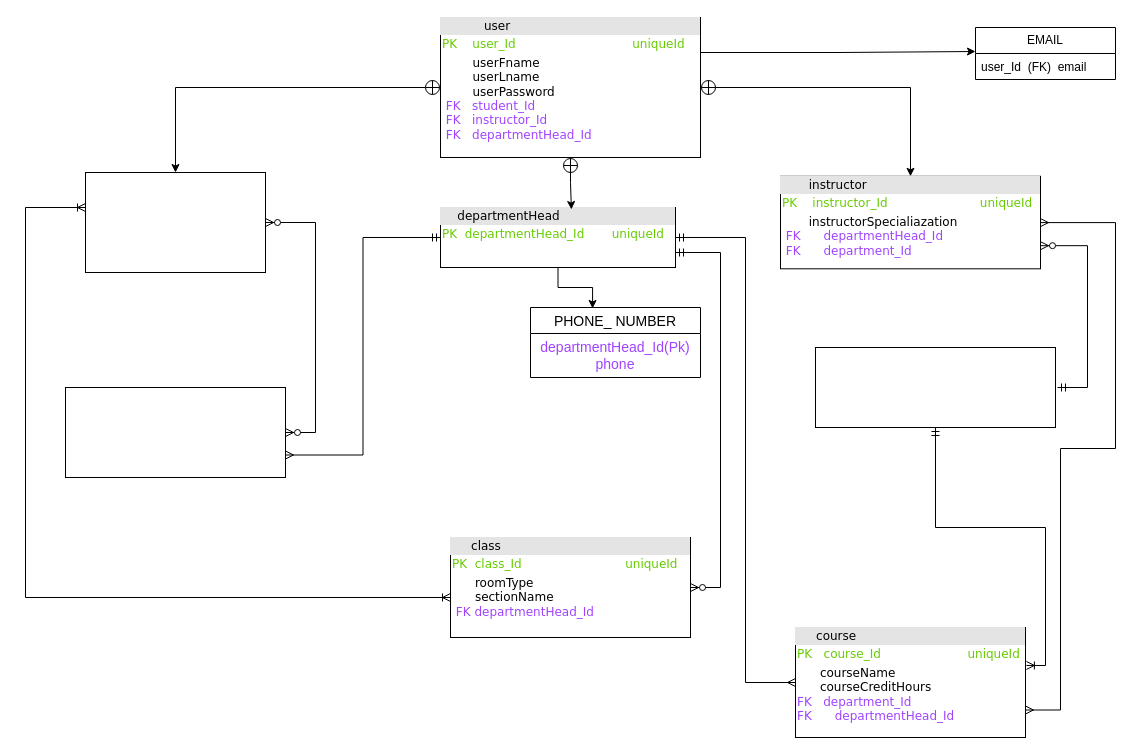
Some shapes in this 1142 by 755 pixel diagram are drawn without their labels. Each missing label, with the centre of its shape:
"department PK department_Id uniqueId departmentName departmentLocation" belongs at point (935, 387).
"schedule PK schedule_Id uniqueId scheduleDay scheduleTime FK departmentHead_Id" belongs at point (175, 432).
"student PK student_Id uniqueId Semister Year department_id" belongs at point (175, 222).
